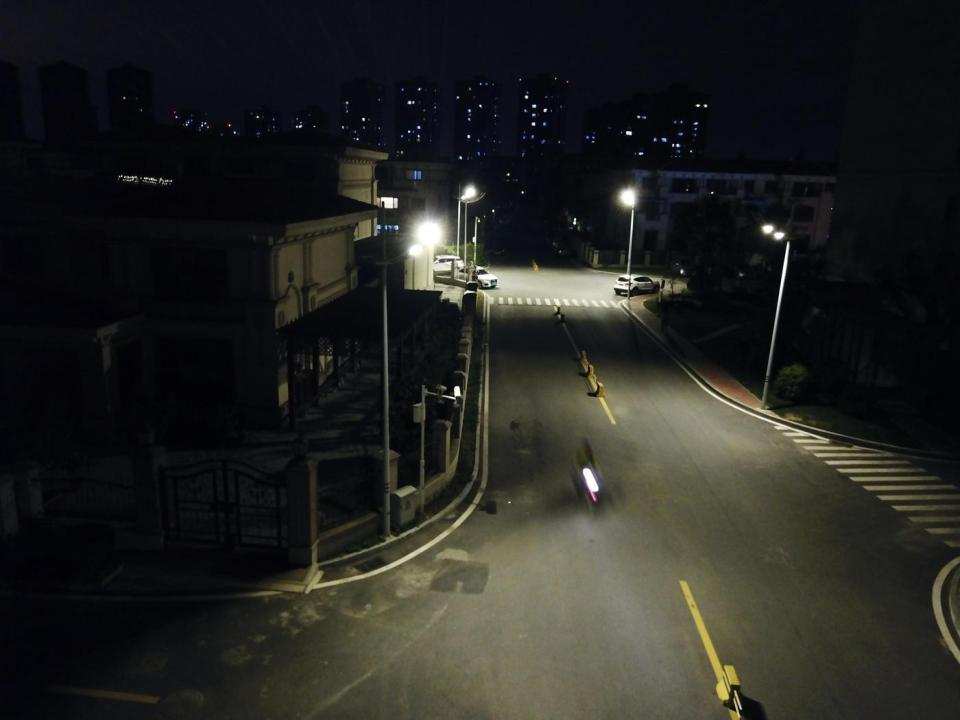car: (613, 274, 660, 296), (456, 265, 498, 288), (424, 254, 466, 275), (670, 255, 696, 277), (553, 240, 574, 256), (491, 238, 505, 255), (497, 213, 510, 225)
